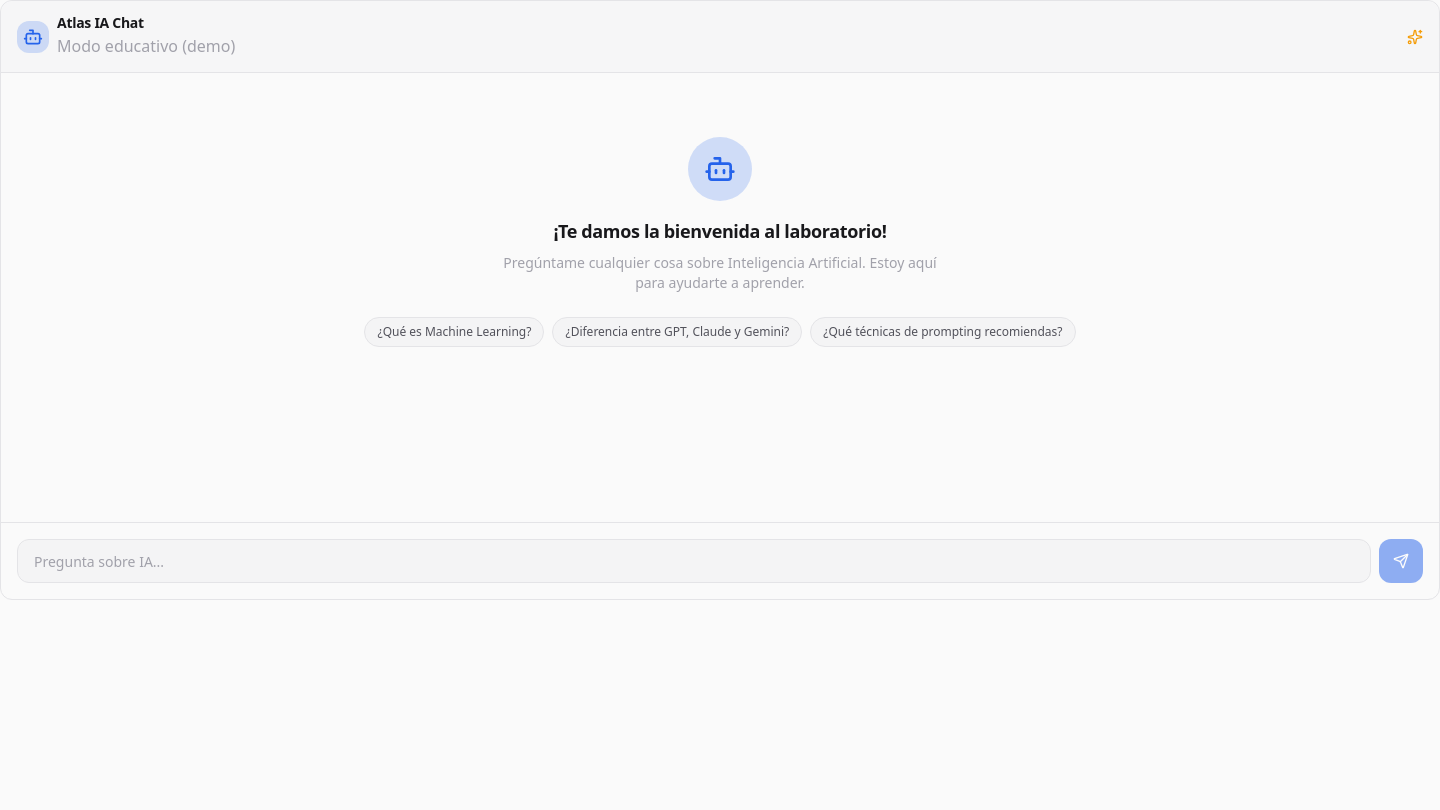
AIChat › enviar un primer mensaje desbloquea la insignia del chat
Type "hola" into the field with placeholder "Pregunta sobre IA..." at {"x": 694, "y": 561}, box [17, 539, 1371, 583]
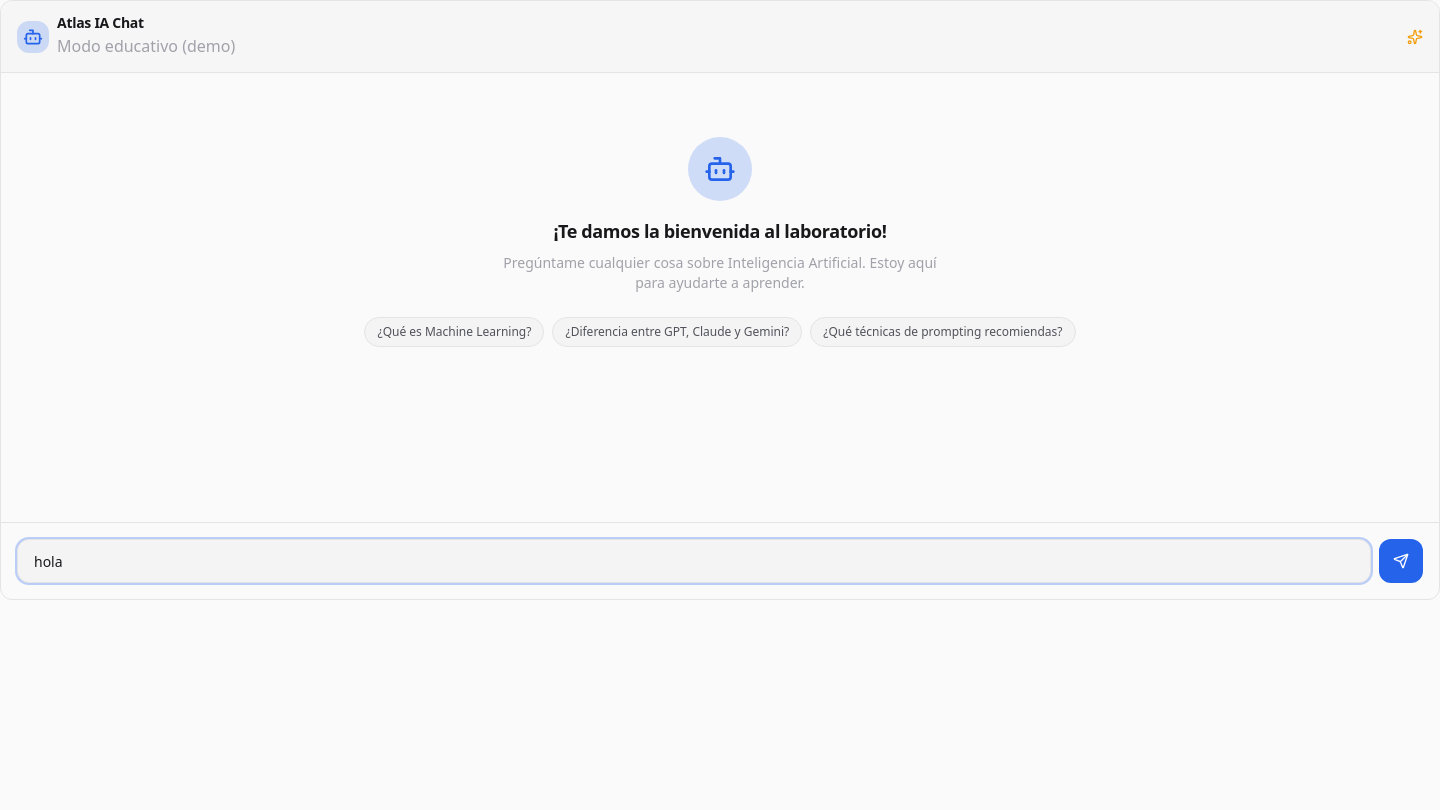
Press Enter
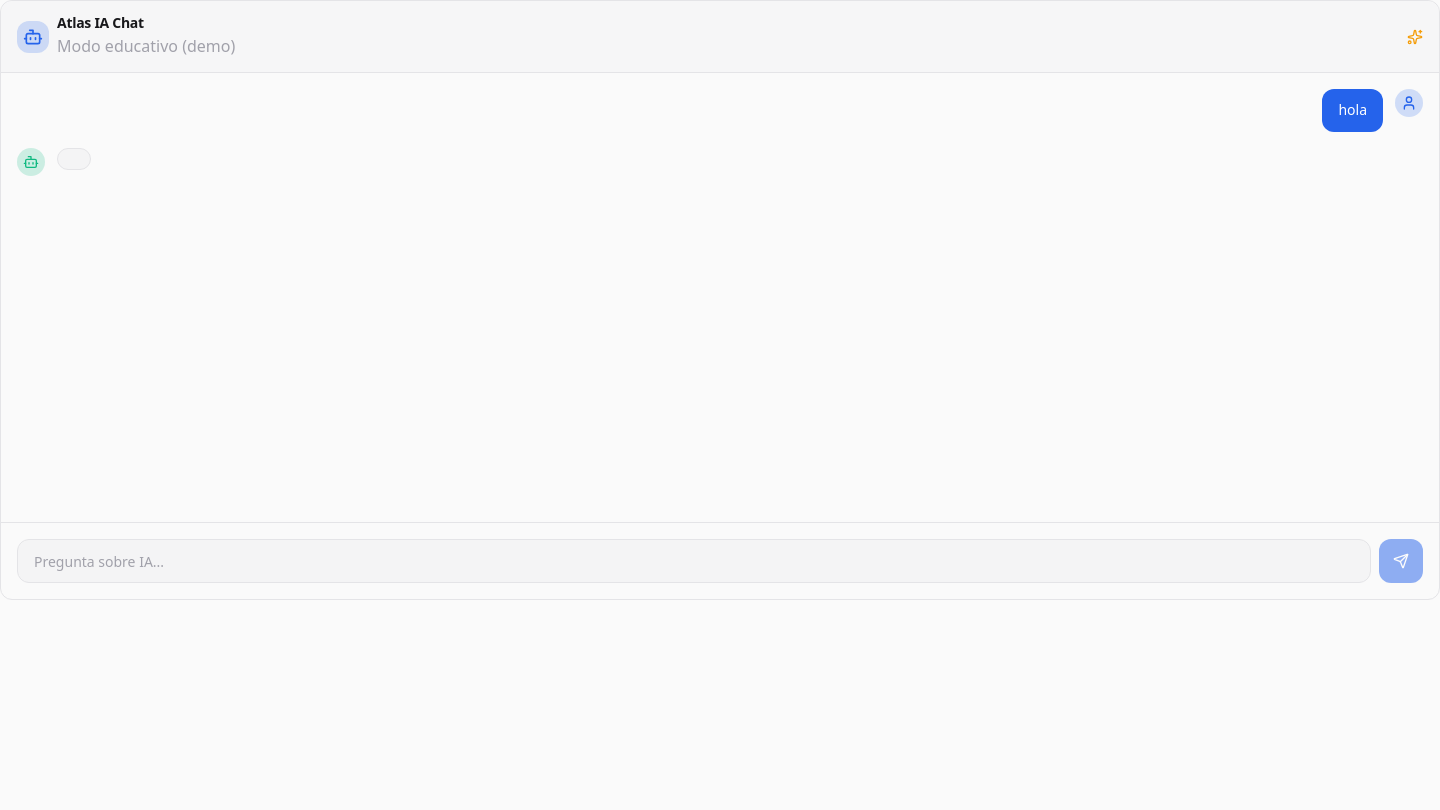
Check: the text "hola" is shown, box [1338, 99, 1367, 122]
